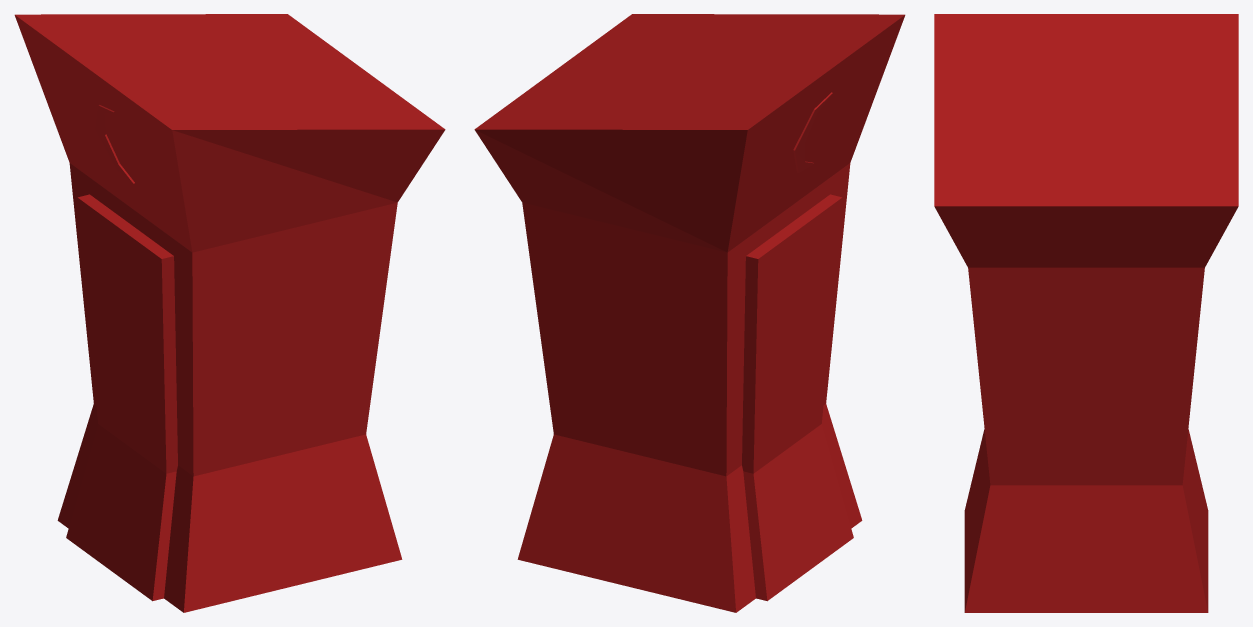
File: banheiro.obj
3 renders of one model, left to right at view 1: azimuth 30°, elevation 25°; view 2: azimuth 150°, elevation 25°; view 3: azimuth 270°, elevation 25°, orthographic. The views are drawn at different scales.
Visible parts, largest first — view 1: Banheiro; view 2: Banheiro; view 3: Banheiro.
Boxes of the visible parts, box(x1,y1,x2,y2) form: Banheiro: box(14, 14, 445, 612); Banheiro: box(474, 14, 905, 612); Banheiro: box(934, 14, 1238, 612).
Bounding box in the file's own units: 0.2236 × 0.3917 × 0.2236.
